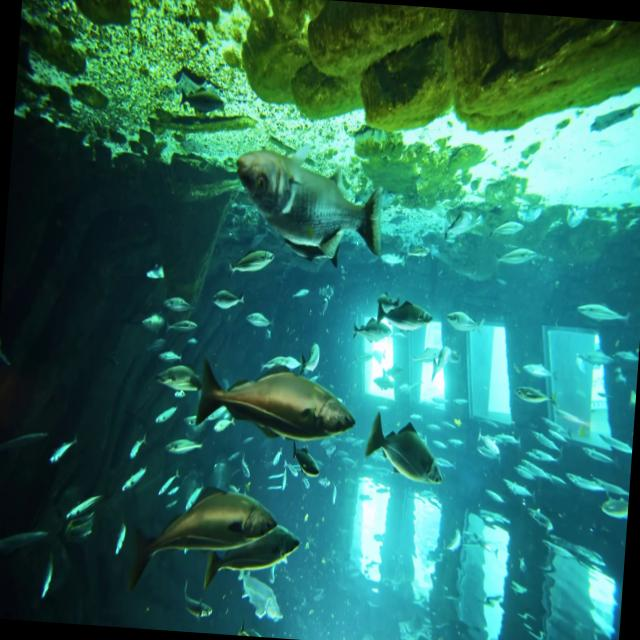fish: (226, 153, 391, 281), (188, 346, 364, 454), (125, 470, 282, 590), (204, 512, 310, 598), (362, 409, 453, 492), (370, 277, 438, 347), (568, 288, 636, 330), (232, 582, 288, 628), (218, 236, 282, 276), (444, 290, 485, 346), (512, 378, 562, 420), (166, 426, 210, 464), (210, 282, 246, 322), (241, 306, 273, 347), (493, 205, 531, 238), (598, 494, 628, 531), (170, 312, 206, 340)
